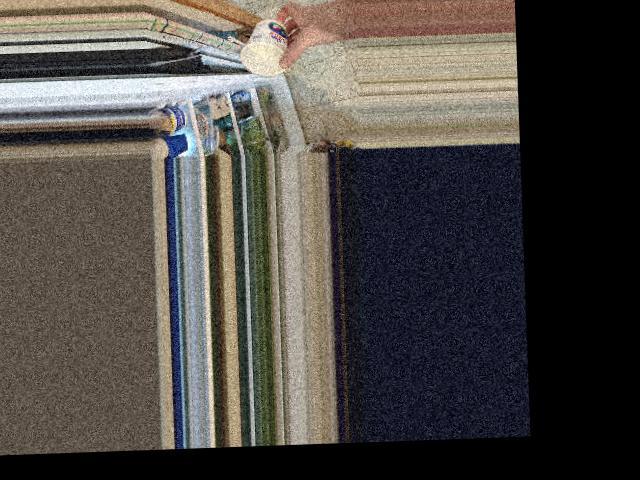cotage: (243, 20, 288, 67)
